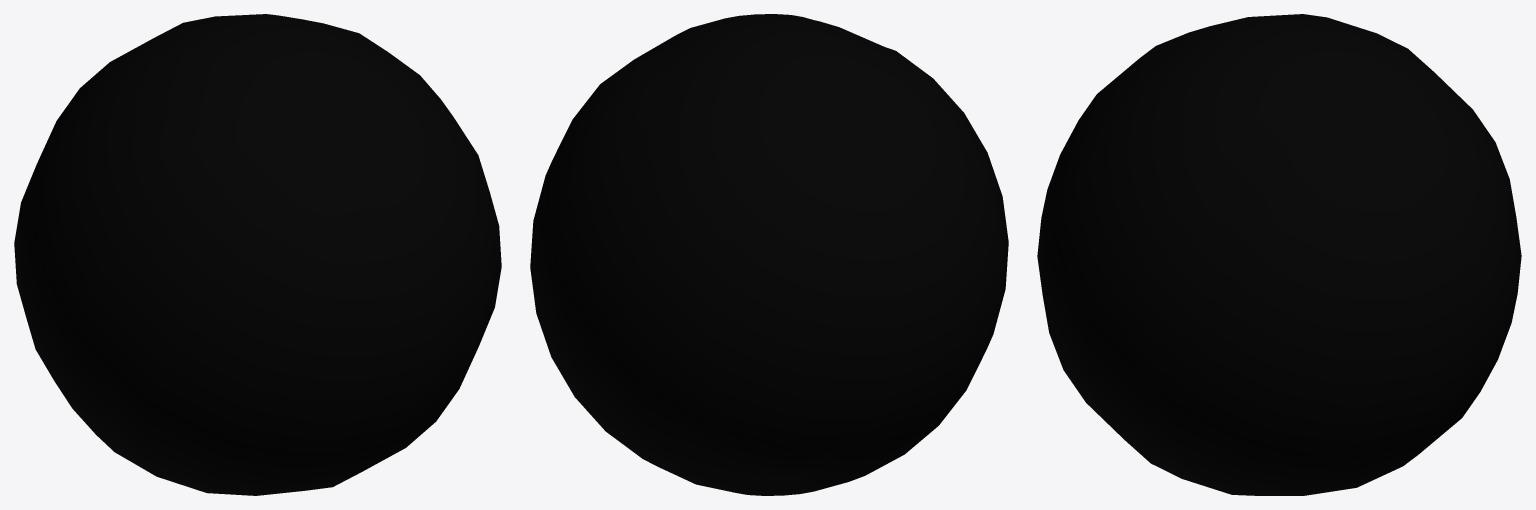
3 views of the same model, side by side, from view 1: azimuth 30°, elevation 25°; view 2: azimuth 150°, elevation 25°; view 3: azimuth 270°, elevation 25° (orthographic).
Parts seen in each view (by area): view 1: Joint_0_Object_0, Joint_0_Object_1; view 2: Joint_0_Object_0, Joint_0_Object_1; view 3: Joint_0_Object_0, Joint_0_Object_1.
Boxes of the visible parts, left/top/right/bottom form: Joint_0_Object_0: left=14, top=14, right=501, bottom=495; Joint_0_Object_1: left=24, top=19, right=452, bottom=495; Joint_0_Object_0: left=530, top=14, right=1008, bottom=495; Joint_0_Object_1: left=603, top=27, right=971, bottom=489; Joint_0_Object_0: left=1037, top=14, right=1516, bottom=495; Joint_0_Object_1: left=1041, top=17, right=1521, bottom=495.
Size of the model in its own units: 204 by 206 by 205.
Materials: 1 (1 with a texture image).
